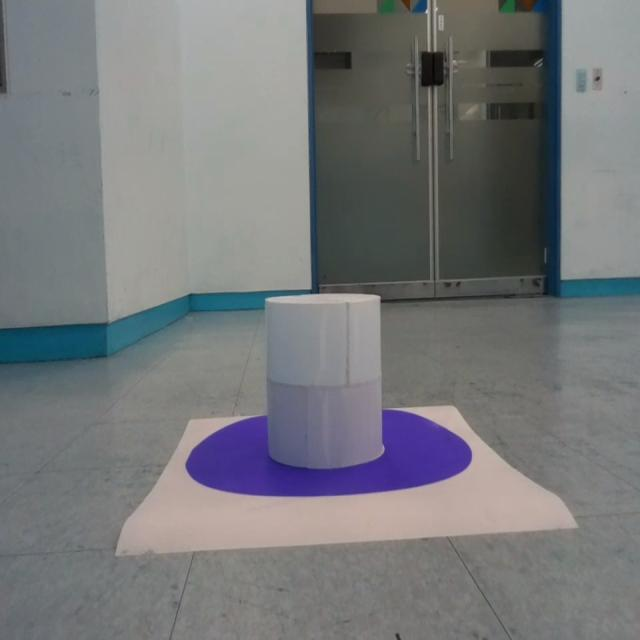cylinder: (264, 292, 384, 470)
